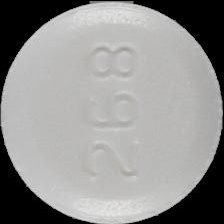52544-268: (0, 0, 224, 224)
